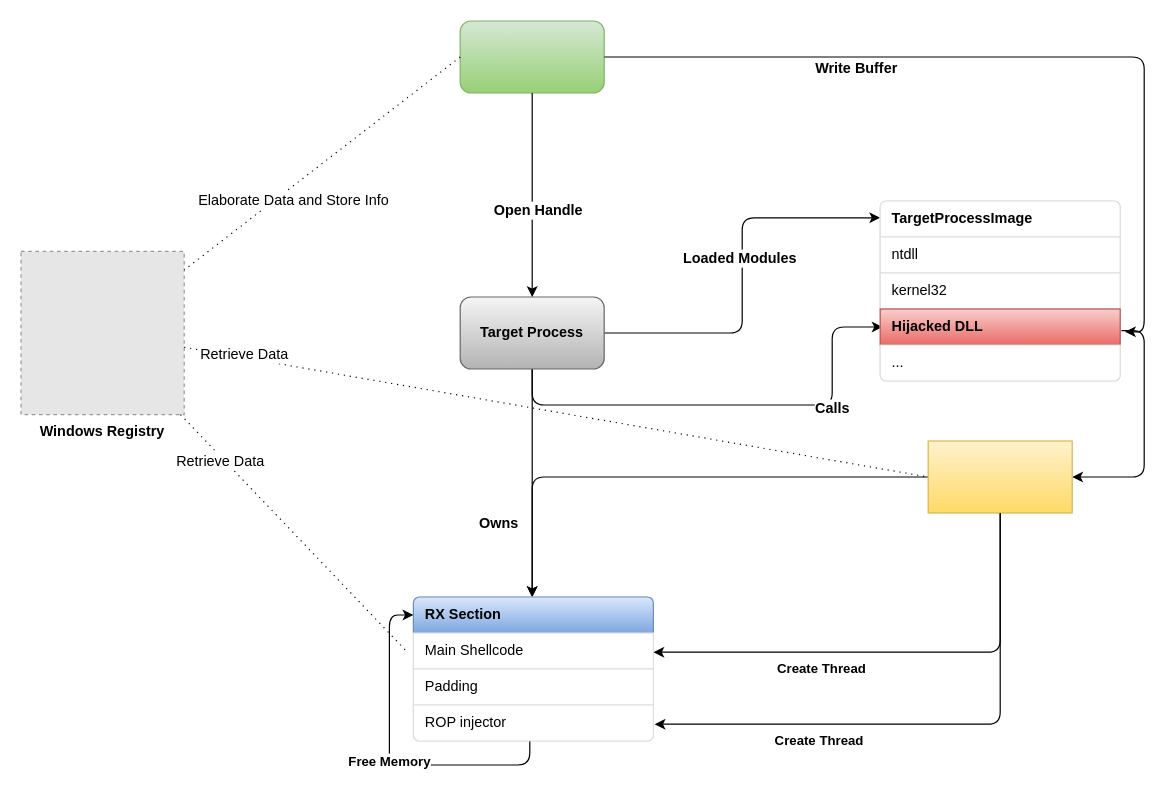
Image size: 1175x796. Some labels were removed from this diagram. Grey dashed boxes stand in for pictures. Each missing label, with the box of its shape:
FunctionHijacker: (459, 20, 604, 93)
Loader: (927, 440, 1072, 513)
